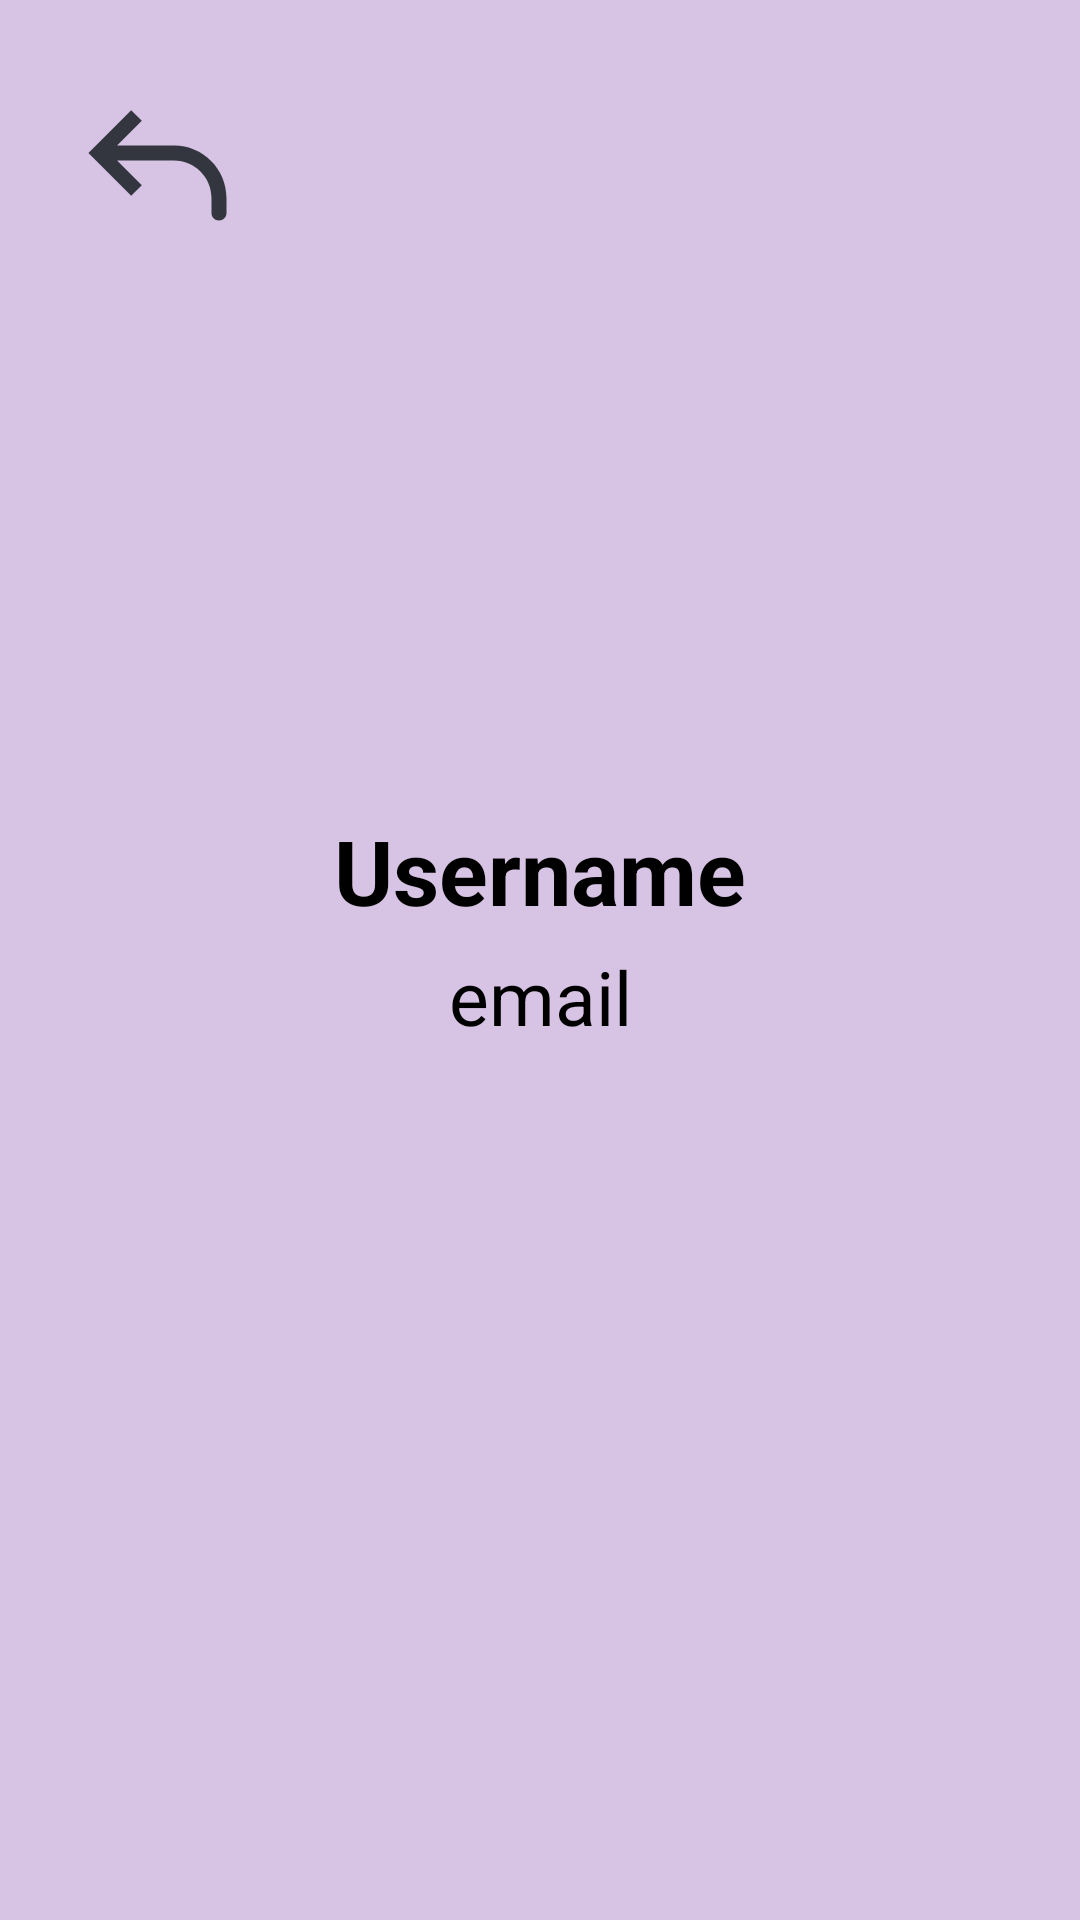

Where icons sit on this 1080×1920 app screen, as (x1, y1, x2, y2):
back arrow: (88, 110, 227, 221)
